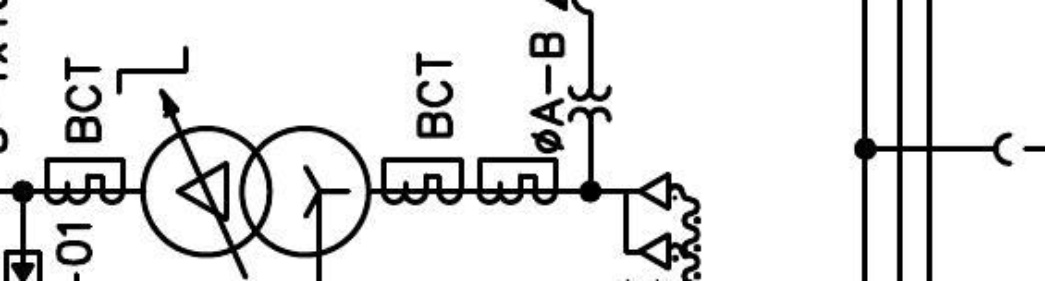11522_tx_dyn1: (139, 124, 373, 259)
terminator_double: (622, 171, 672, 271)
